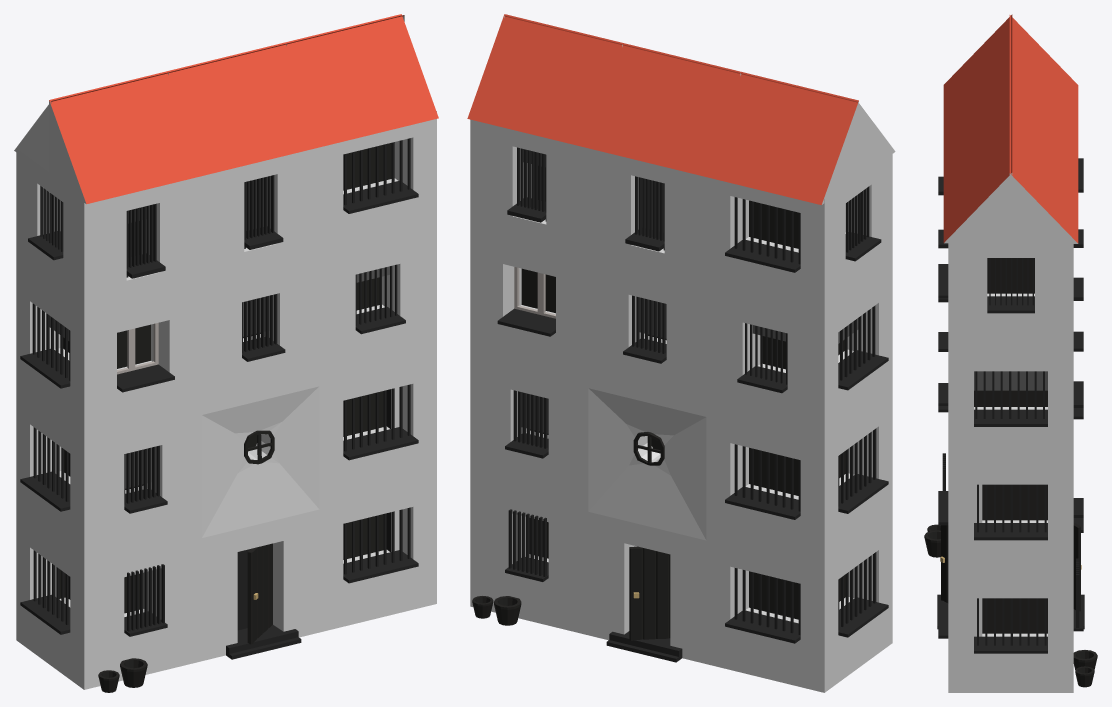
File: CasaProcedural_18.fbx
3 views of the same model, side by side, from view 1: azimuth 30°, elevation 25°; view 2: azimuth 150°, elevation 25°; view 3: azimuth 270°, elevation 25° (orthographic). The views are drawn at different scales.
Visible parts, largest first — view 1: Procedural_Building; view 2: Procedural_Building; view 3: Procedural_Building.
Boxes of the visible parts, bbox=[...] form: Procedural_Building: bbox=[14, 14, 438, 692]; Procedural_Building: bbox=[467, 14, 895, 692]; Procedural_Building: bbox=[924, 14, 1097, 692].
Bounding box in the file's own units: 316 × 459 × 138.
